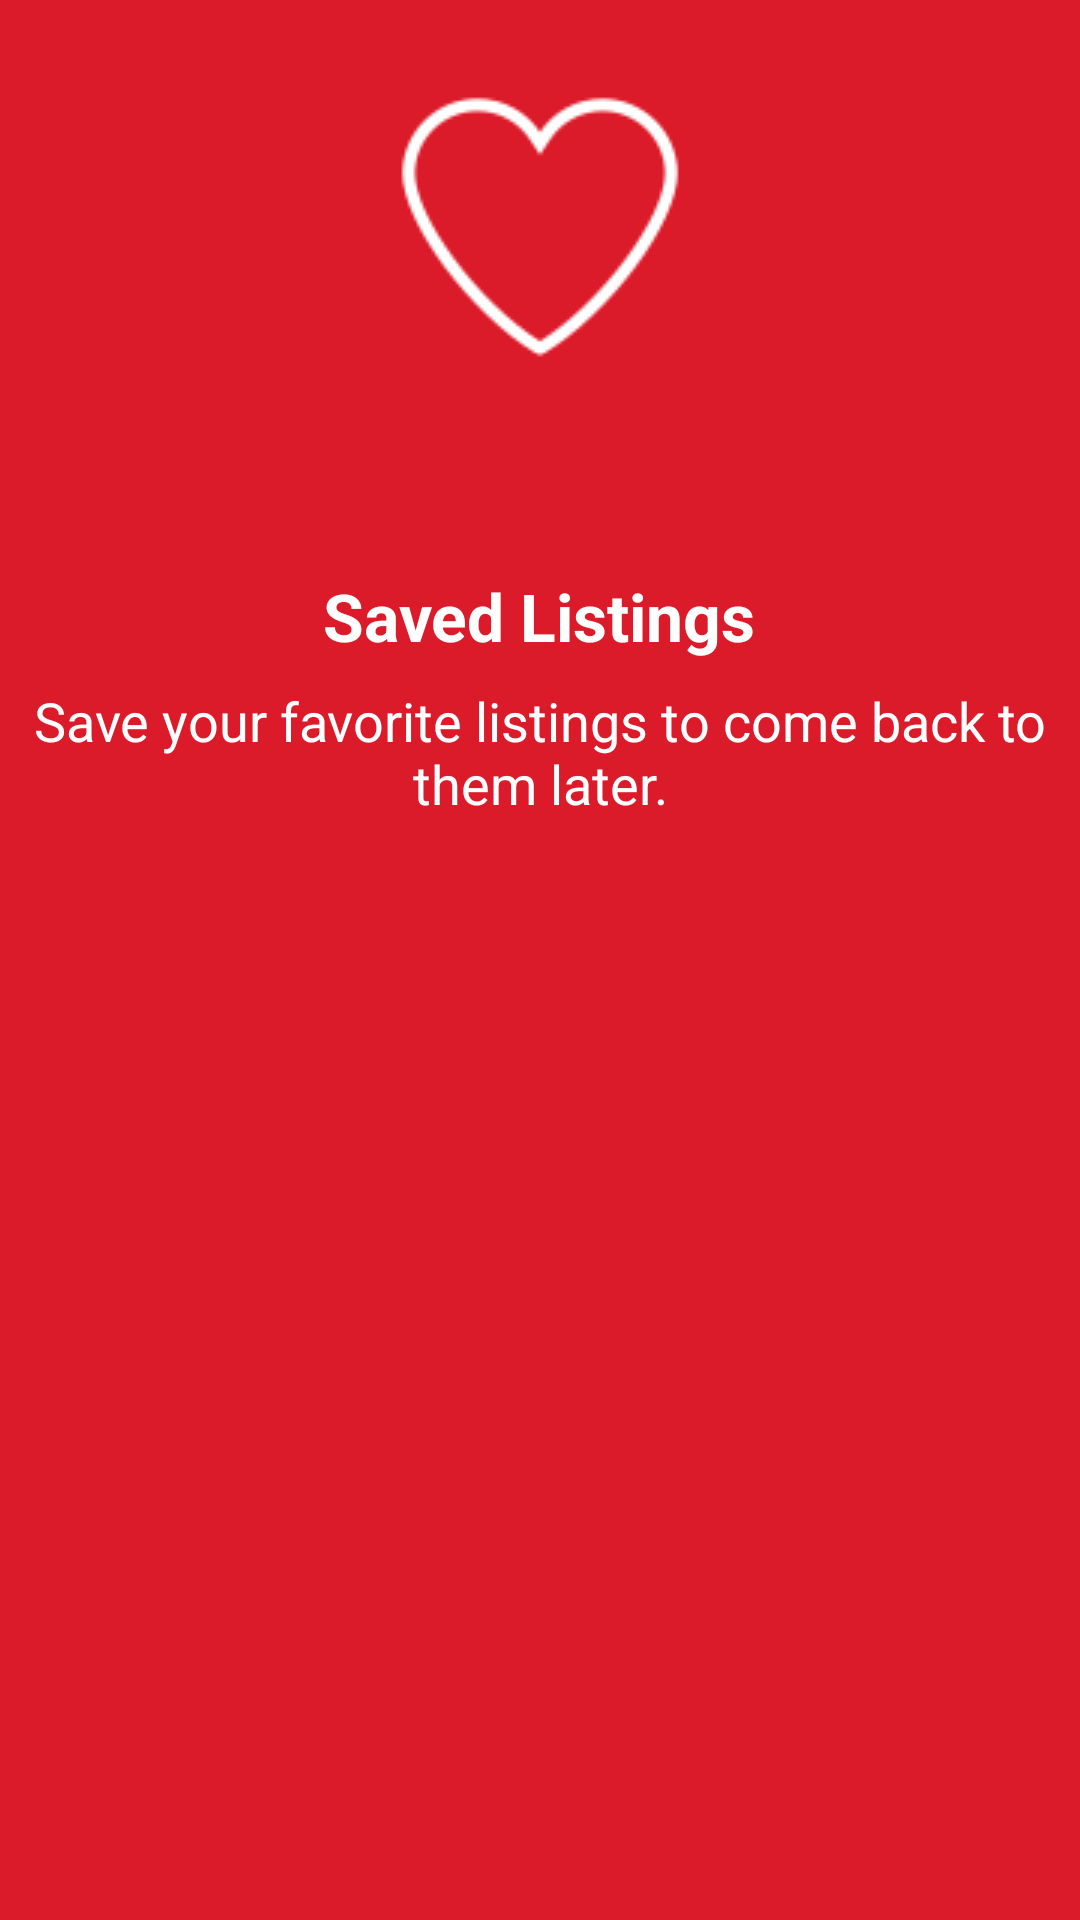

Icon click points for this 1080×1920 phone screenshot, format (x=x, y=y):
love: (x=540, y=227)
